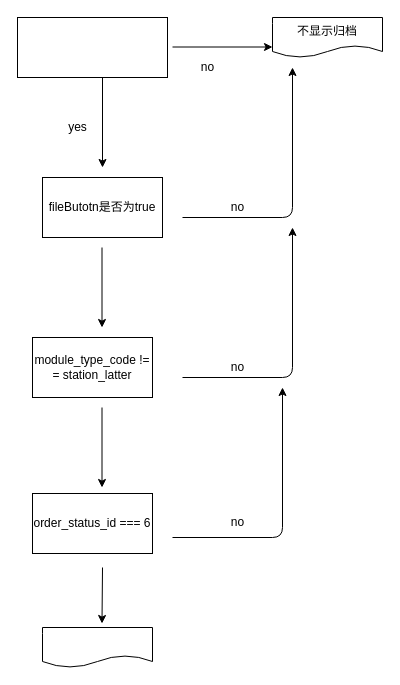
This 400x685 diagram has some shape labels left out. Each missing label, with the box of its shape:
显示归档: (42, 626, 152, 668)
用 module_type_code 从 module_type_code_list 匹配出来 current: (16, 16, 168, 78)
